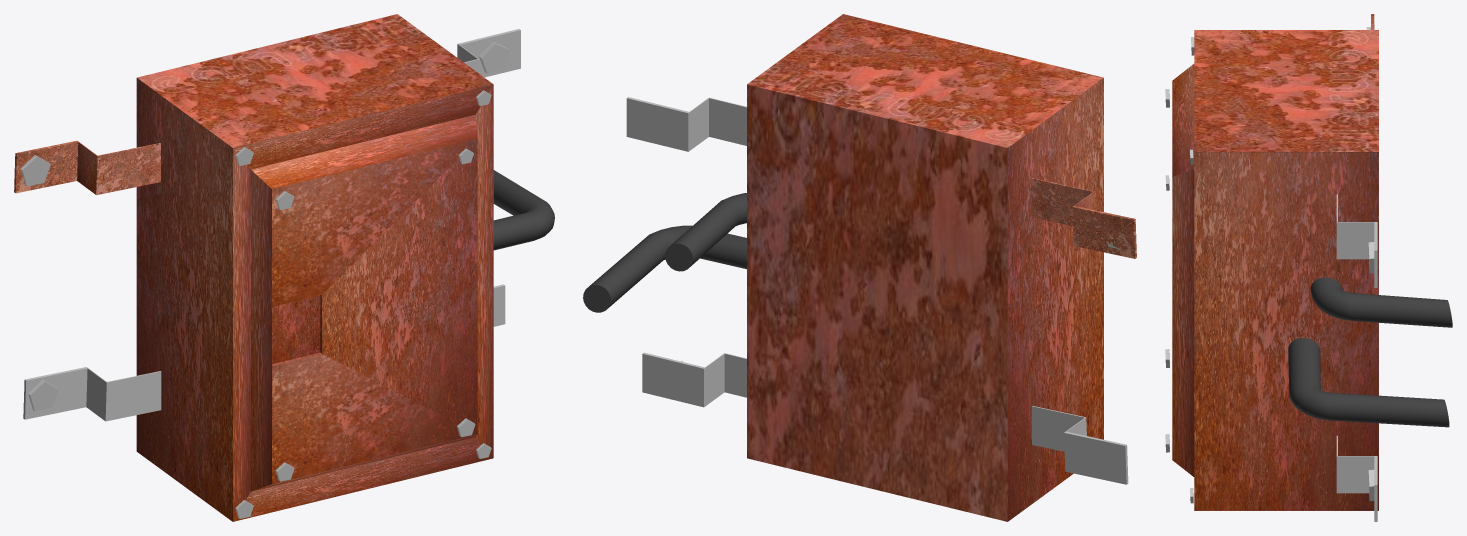
The model's file is electrical box.fbx.
3 renders of one model, left to right at view 1: azimuth 30°, elevation 25°; view 2: azimuth 150°, elevation 25°; view 3: azimuth 270°, elevation 25°, orthographic. The views are drawn at different scales.
Visible parts, largest first — view 1: polySurface547; view 2: polySurface547; view 3: polySurface547.
Part boxes in pixels (bbox=[...]): polySurface547: bbox=[14, 14, 554, 521]; polySurface547: bbox=[583, 14, 1136, 521]; polySurface547: bbox=[1165, 14, 1452, 521].
Size of the model in its own units: 714 by 496 by 360.
